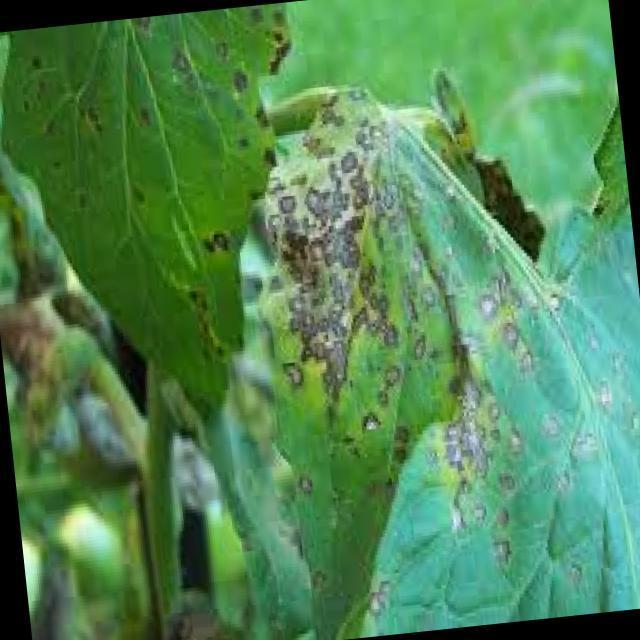Septoria: (254, 120, 448, 440), (18, 2, 302, 207), (415, 259, 580, 591)
